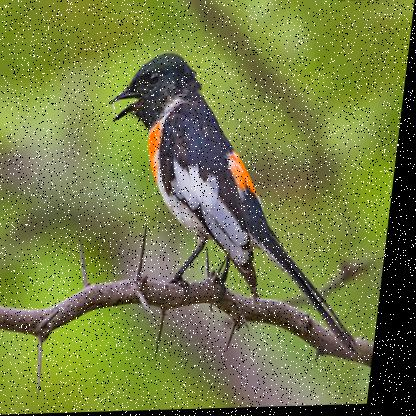Burung: (89, 48, 394, 367)
